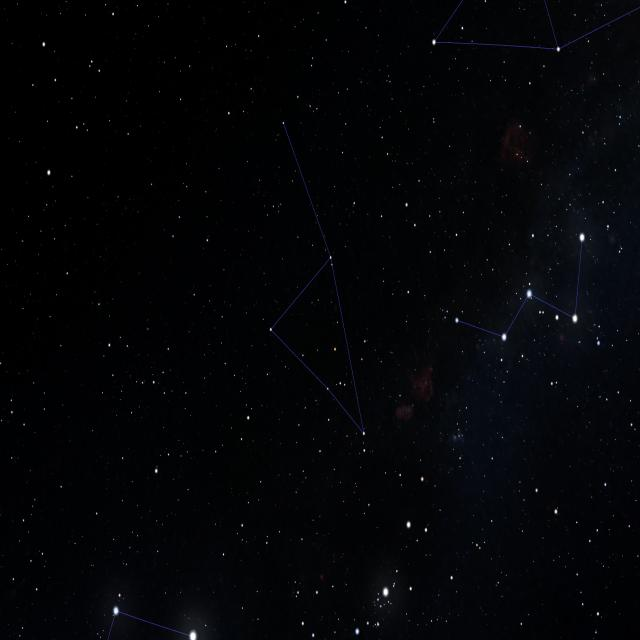Camelopardalis: (235, 106, 382, 456)
